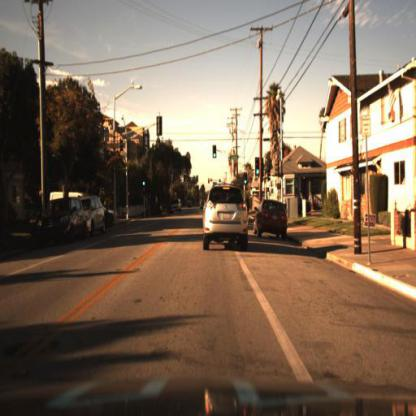car: (198, 180, 251, 255), (35, 193, 89, 251), (254, 196, 292, 241), (88, 192, 107, 242), (47, 184, 83, 207), (108, 204, 122, 221)
trafficLight-Green: (211, 150, 219, 163), (143, 178, 148, 190), (244, 175, 249, 187), (256, 170, 261, 179)
